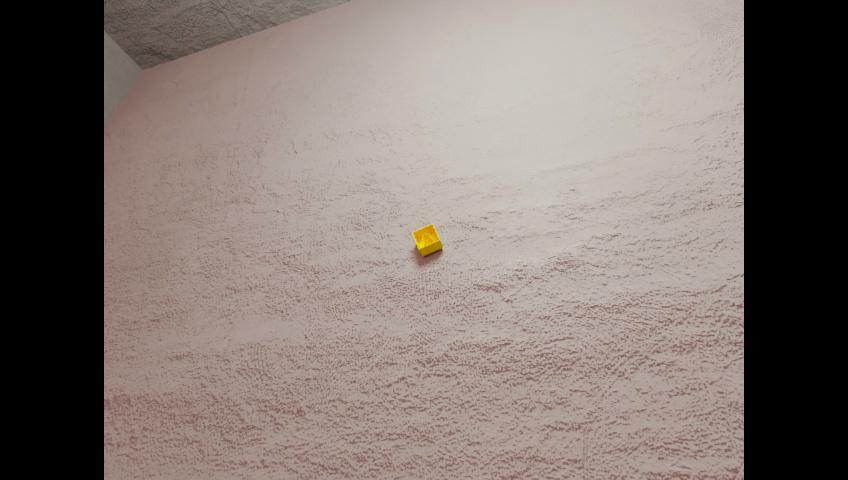2x2_yellow: (412, 223, 442, 256)
